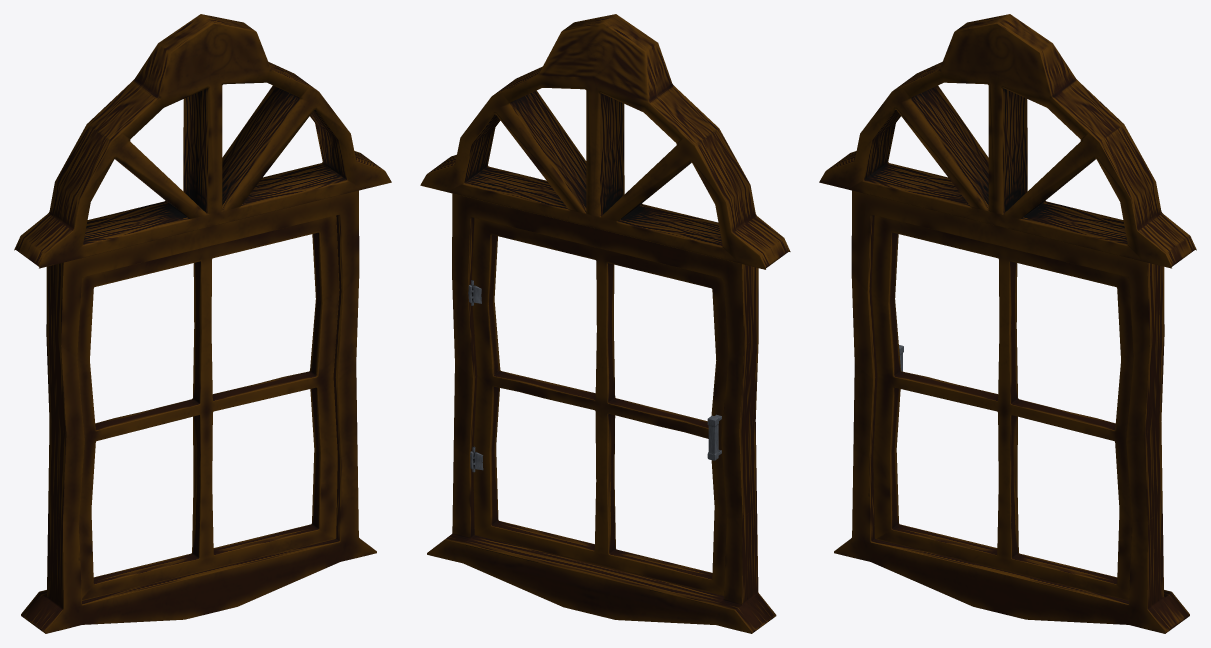
Rendered from window.glb.
3 renders of one model, left to right at view 1: azimuth 30°, elevation 25°; view 2: azimuth 150°, elevation 25°; view 3: azimuth 330°, elevation 25°, orthographic.
Visible parts, largest first — view 1: Frame_2_lowpoly_6, Frame_lowpoly_7, Jendela_kaca_lowpoly_0; view 2: Frame_2_lowpoly_6, Frame_lowpoly_7, Jendela_kaca_lowpoly_0, Gagang_lowpoly_5; view 3: Frame_2_lowpoly_6, Frame_lowpoly_7, Jendela_kaca_lowpoly_0.
Part boxes in pixels (x1,y1,x2,y2): Frame_2_lowpoly_6: (14, 14, 391, 268); Frame_lowpoly_7: (21, 190, 376, 633); Jendela_kaca_lowpoly_0: (77, 215, 339, 600); Frame_2_lowpoly_6: (420, 14, 790, 269); Frame_lowpoly_7: (427, 193, 776, 633); Jendela_kaca_lowpoly_0: (472, 218, 728, 595); Gagang_lowpoly_5: (707, 414, 721, 460); Frame_2_lowpoly_6: (819, 14, 1196, 268); Frame_lowpoly_7: (834, 190, 1189, 633); Jendela_kaca_lowpoly_0: (871, 215, 1133, 600).
Size of what is drawn, in the model's own units: 1.27 by 2.04 by 0.1792.
4 materials, 4 textured.
